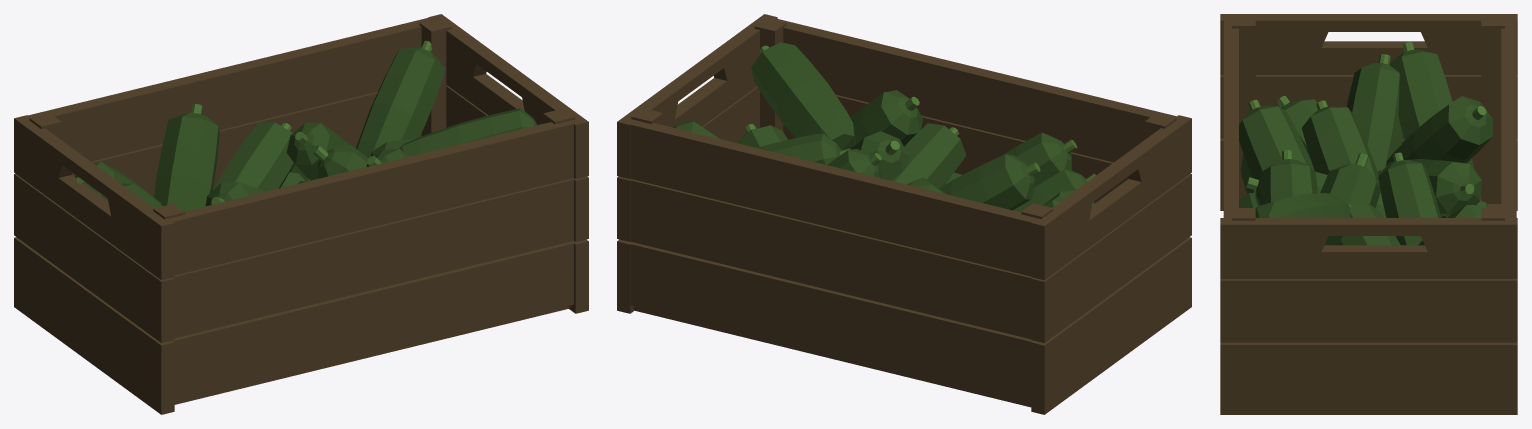
File: WoodenCrateCucember_1.fbx
3 renders of one model, left to right at view 1: azimuth 30°, elevation 25°; view 2: azimuth 150°, elevation 25°; view 3: azimuth 270°, elevation 25°, orthographic.
Parts seen in each view (by area): view 1: WoodenCrateCucember_1; view 2: WoodenCrateCucember_1; view 3: WoodenCrateCucember_1.
Boxes of the visible parts, <box> form: WoodenCrateCucember_1: <box>14,14,588,414</box>; WoodenCrateCucember_1: <box>617,14,1191,414</box>; WoodenCrateCucember_1: <box>1220,14,1517,414</box>.
Bounding box in the file's own units: 110 × 46.94 × 65.61.
